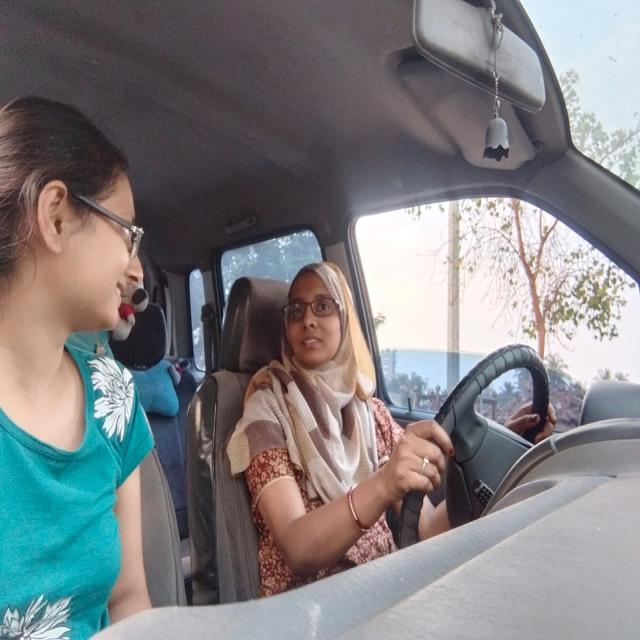LeftRight: (275, 258, 361, 394)
person: (0, 95, 162, 376)
talking: (295, 331, 330, 357), (110, 270, 129, 312)
